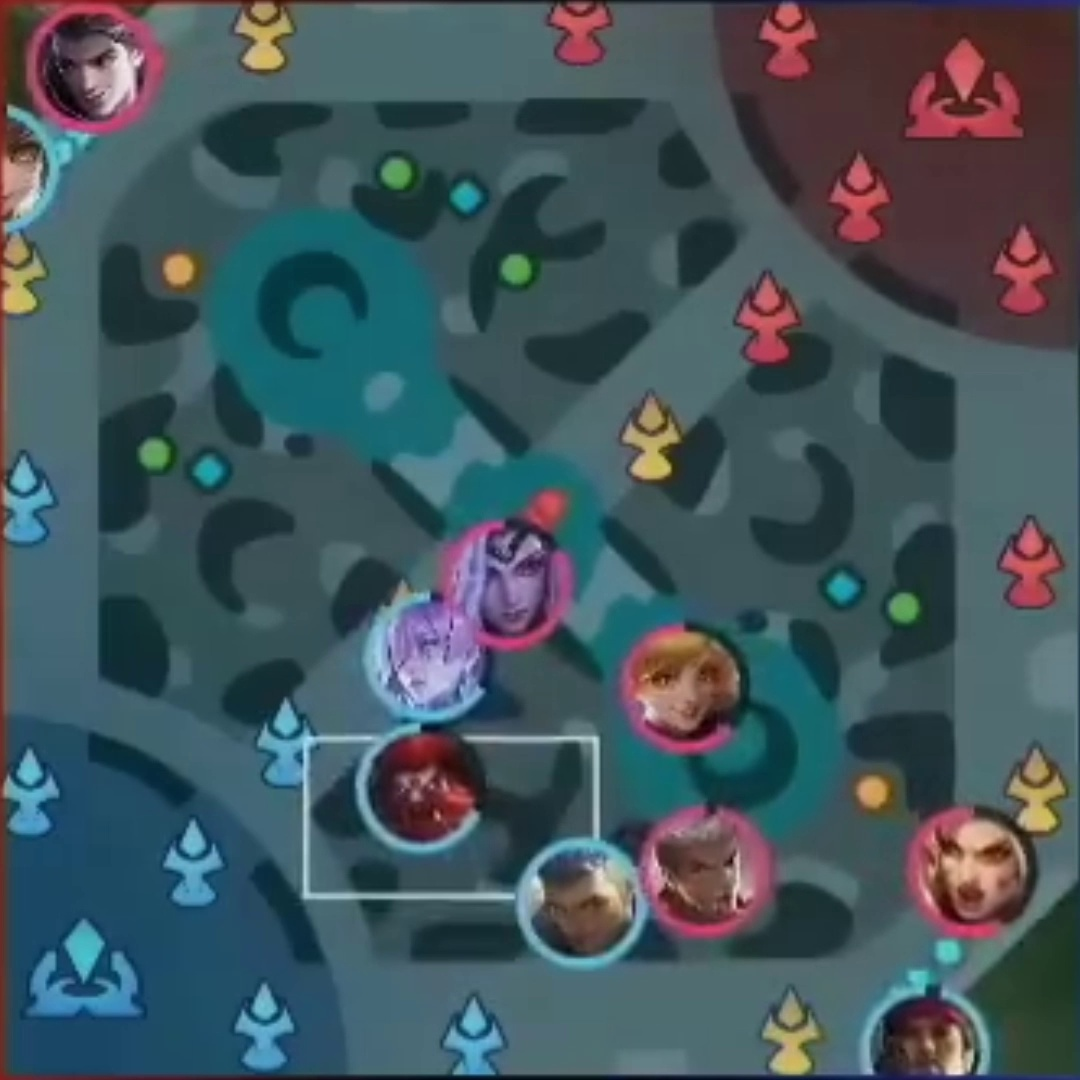Chou: (650, 811, 763, 934)
Claude: (36, 14, 151, 117)
Fanny: (626, 631, 737, 752)
Fredrinn: (529, 850, 634, 957)
Lapu-Lapu: (871, 994, 980, 1080)
Masha: (913, 810, 1029, 930)
Minotaur: (371, 731, 476, 842)
Novaria: (372, 599, 482, 716)
Valentina: (451, 528, 561, 634)
Wanwan: (2, 109, 55, 236)
